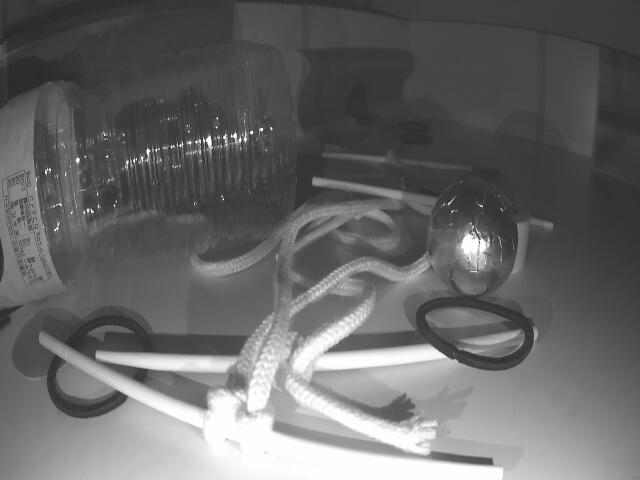Live: (427, 174, 518, 301)
